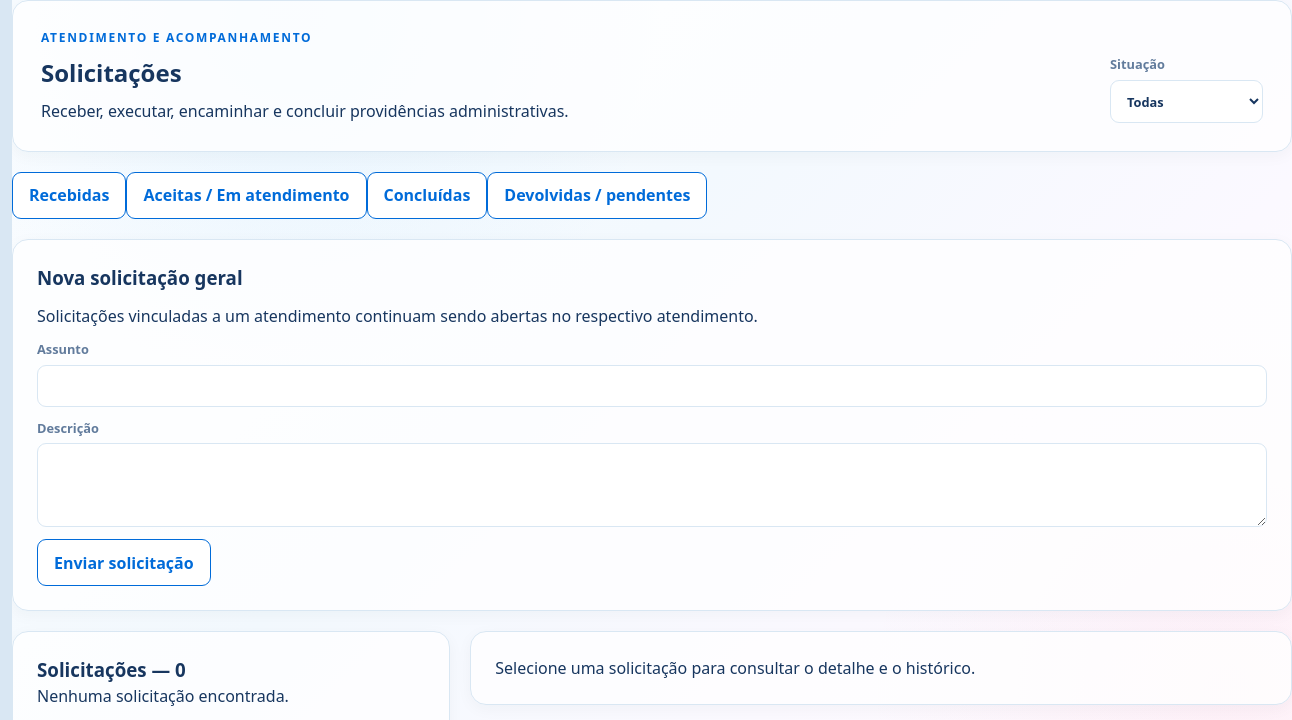
Test: RequestsPage › não confirma na interface uma solicitação ausente após a recarga
The width and height of the screenshot is (1292, 720).
Check: the text "Nenhuma solicitação encontrada." is shown, box [37, 685, 289, 707]
Type "Apoio administrativo" into the field labelled "Assunto".
click(652, 386); type("Apoio administrativo")  # box [37, 365, 1267, 407]
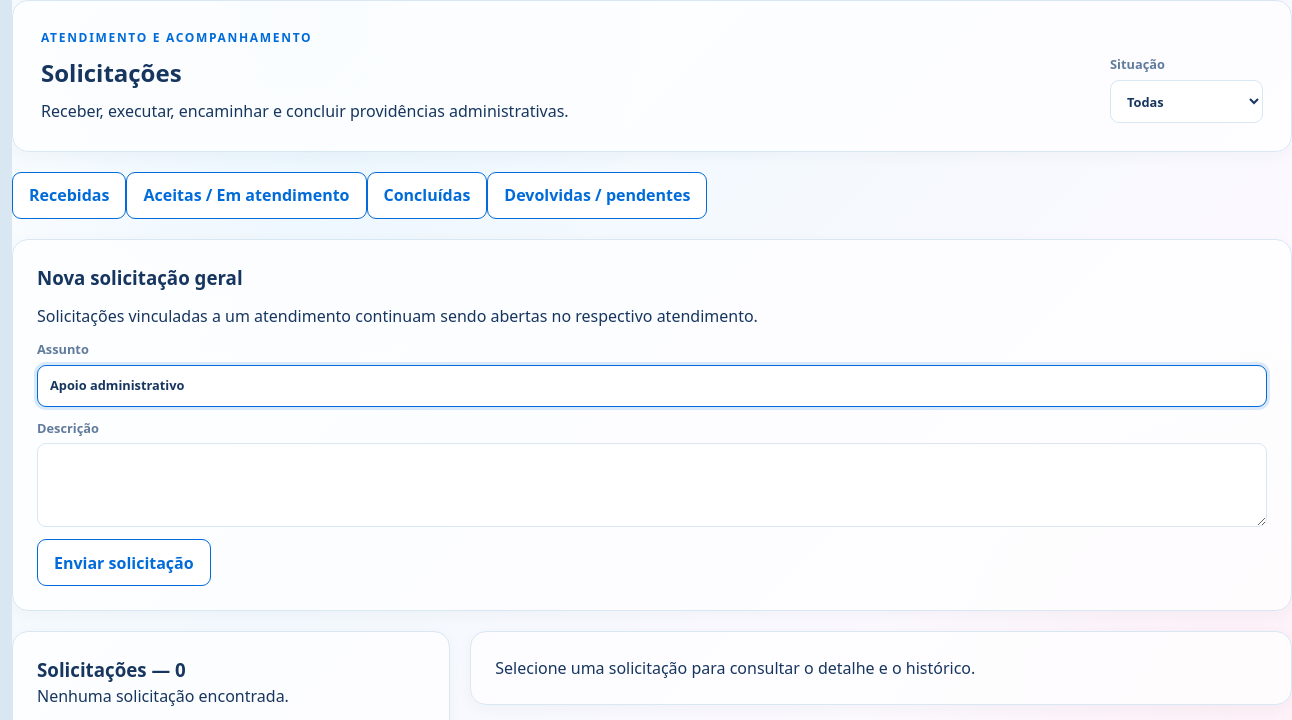
Type "Providência administrativa necessária" into the text box labelled "Descrição".
click(652, 485); type("Providência administrativa necessária")  # box [37, 443, 1267, 527]
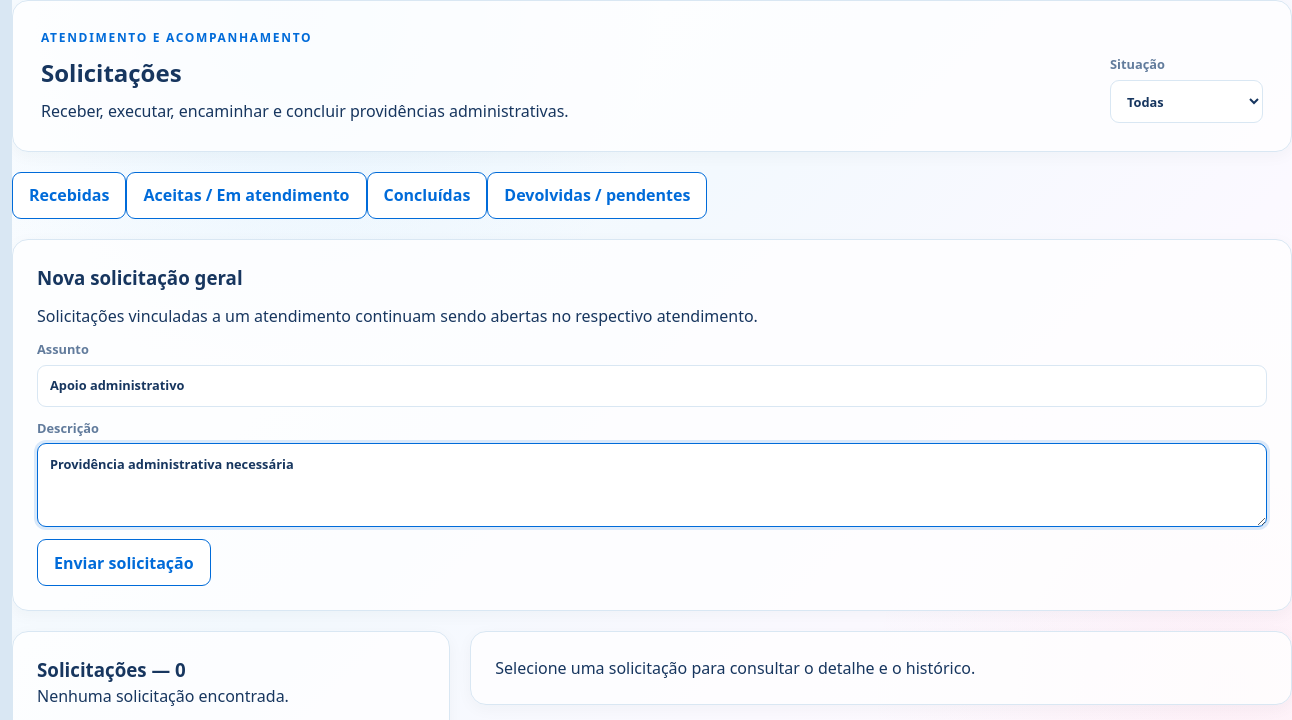
Click the button "Enviar solicitação".
click(124, 563)  # box [37, 539, 211, 586]
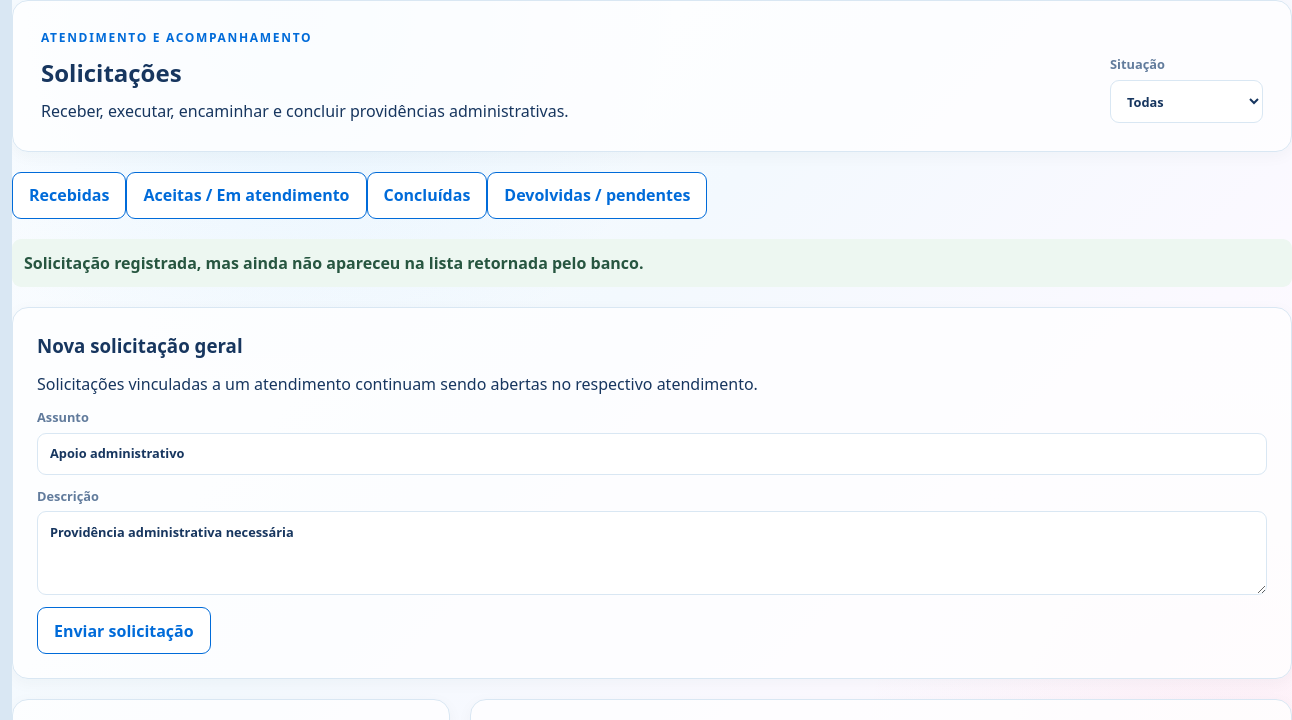
Check: the message shows "ainda não apareceu na lista retornada pelo banco", box [24, 252, 644, 274]
